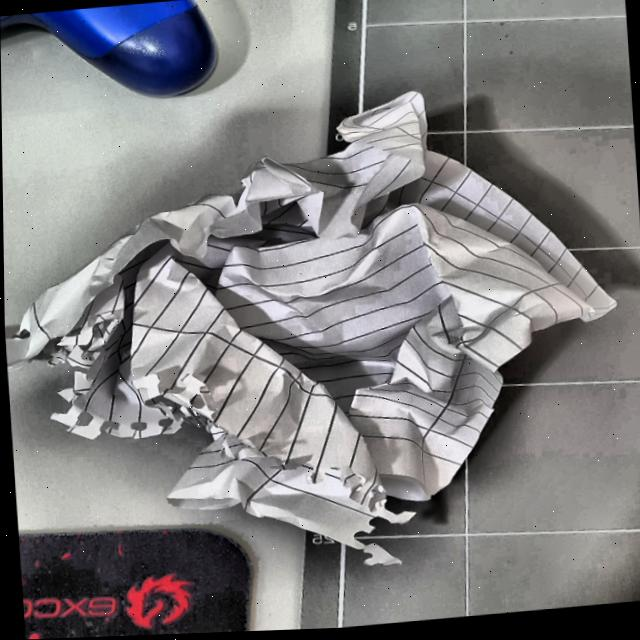paper: (1, 70, 627, 567)
